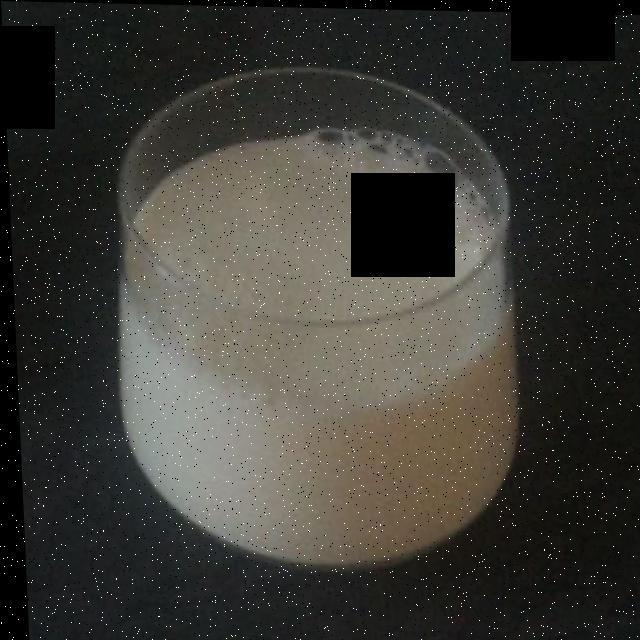milk: (118, 125, 508, 538)
